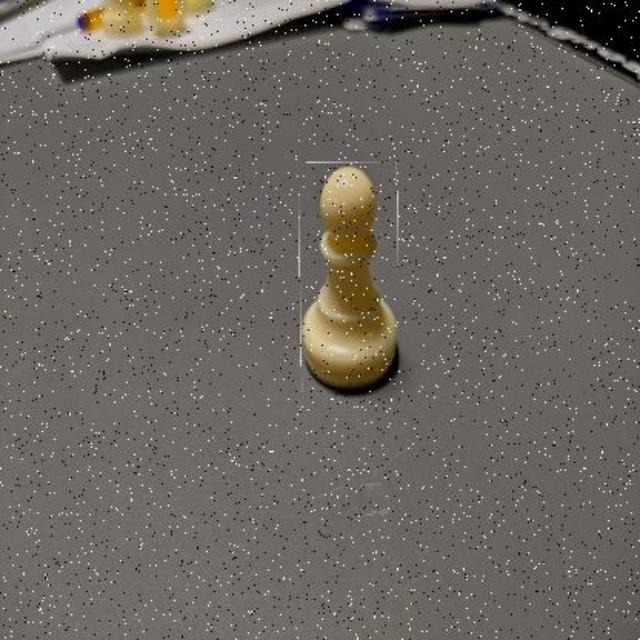white-pawn: (299, 163, 399, 393)
